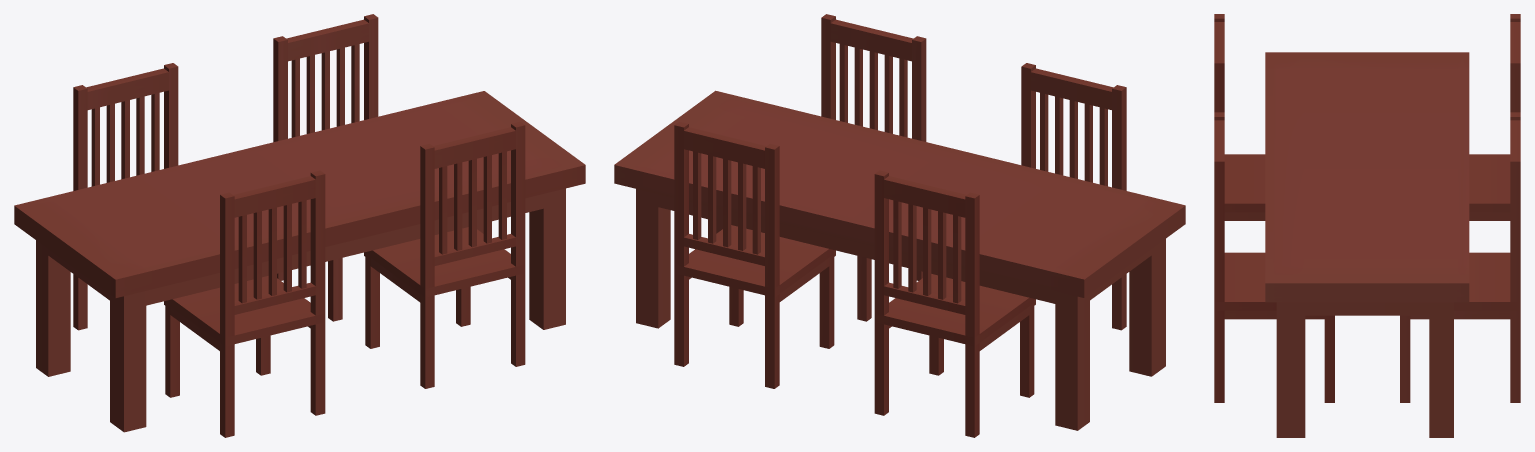
Rendered from SM_Table.fbx.
The picture shows the model from 3 angles, left to right: view 1: azimuth 30°, elevation 25°; view 2: azimuth 150°, elevation 25°; view 3: azimuth 270°, elevation 25°; orthographic projection.
Parts seen in each view (by area): view 1: Cube.015, Cube.004, Cube.001, Cube.002, Cube.003; view 2: Cube.015, Cube.002, Cube.003, Cube.001, Cube.004; view 3: Cube.015, Cube.002, Cube.001, Cube.003, Cube.004.
Part boxes in pixels (box(x1,y1,x2,y2)): Cube.015: box(14, 91, 585, 432); Cube.004: box(165, 170, 325, 437); Cube.001: box(365, 121, 525, 388); Cube.002: box(273, 14, 378, 321); Cube.003: box(73, 63, 178, 330); Cube.015: box(614, 90, 1185, 430); Cube.002: box(674, 121, 834, 388); Cube.003: box(874, 170, 1034, 437); Cube.001: box(821, 14, 926, 321); Cube.004: box(1021, 63, 1126, 330); Cube.015: box(1265, 52, 1469, 437); Cube.002: box(1400, 112, 1520, 402); Cube.001: box(1214, 112, 1334, 402); Cube.003: box(1469, 14, 1520, 220); Cube.004: box(1214, 14, 1265, 220).
Bounding box in the file's own units: 187 × 91.06 × 105.
